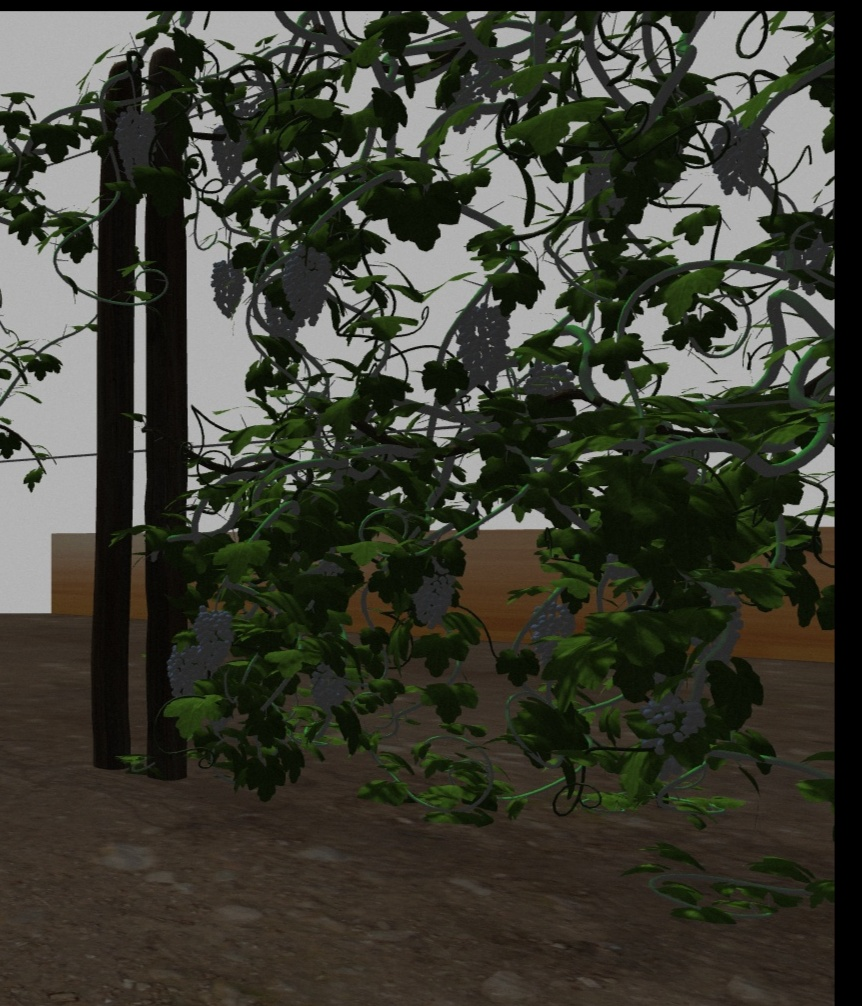grape: (455, 303, 512, 392), (709, 120, 768, 198), (281, 246, 331, 328), (643, 695, 705, 746), (410, 564, 456, 631), (113, 109, 156, 180), (531, 599, 576, 664), (193, 607, 236, 672), (210, 123, 250, 186), (208, 258, 246, 319), (307, 662, 350, 712), (166, 642, 199, 699)
